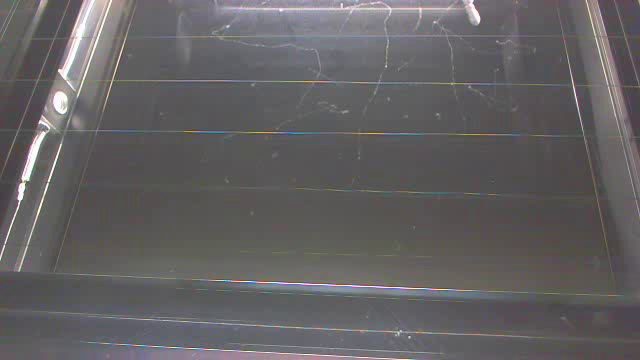alpha: (461, 2, 486, 28)
